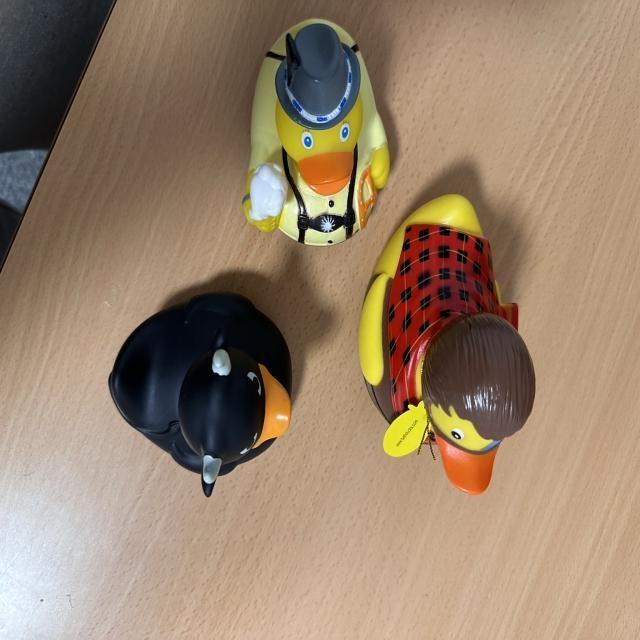rubber-duck: (357, 193, 533, 493), (108, 292, 290, 494), (243, 18, 388, 244)
